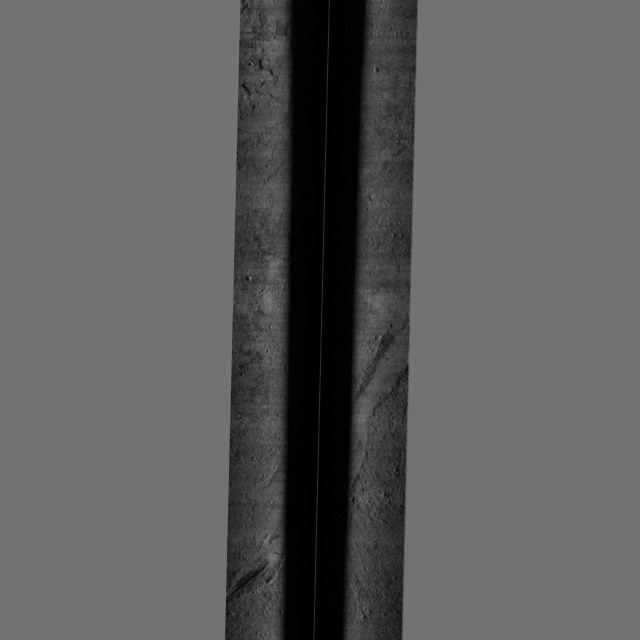Shipwreck: (225, 494, 272, 600)
